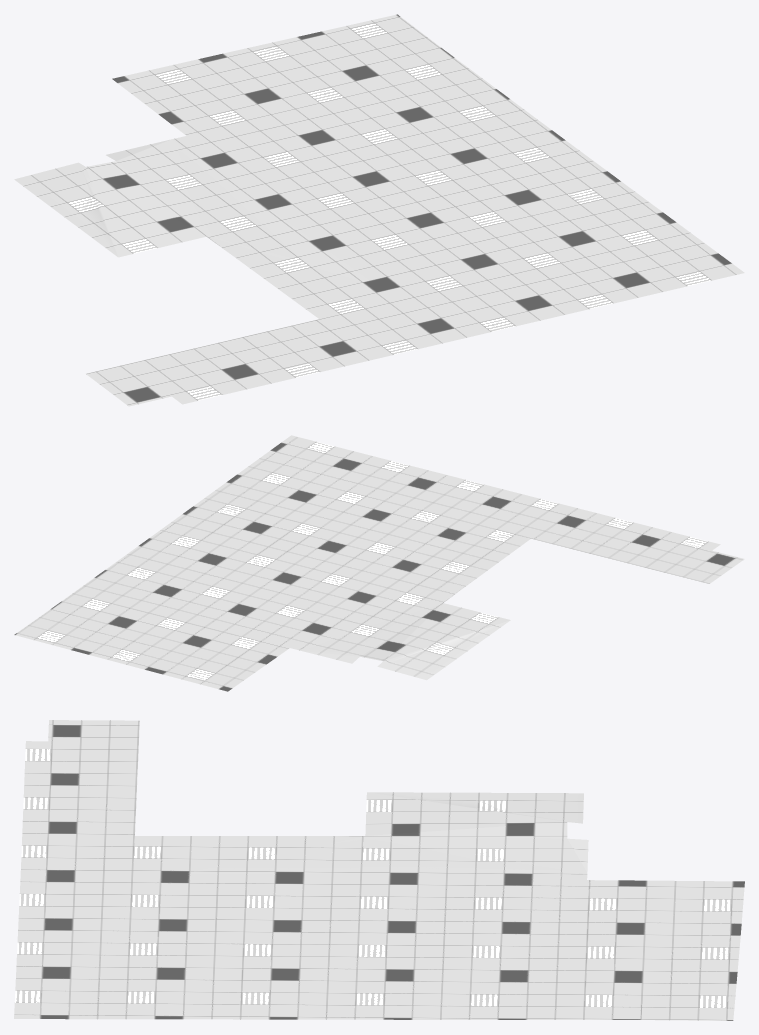
Rendered from roofLicht.glb.
3 renders of one model, top to bottom at view 1: azimuth 30°, elevation 25°; view 2: azimuth 150°, elevation 25°; view 3: azimuth 270°, elevation 25°, orthographic. The views are drawn at different scales.
Parts seen in each view (by area): view 1: Floor.003; view 2: Floor.003; view 3: Floor.003.
Boxes of the visible parts, x1,y1,x2,y2 form: Floor.003: (14, 14, 744, 406); Floor.003: (14, 435, 744, 691); Floor.003: (14, 720, 744, 1020).
Bounding box in the file's own units: 13.39 × 0.0635 × 13.74.
1 material, 1 textured.
